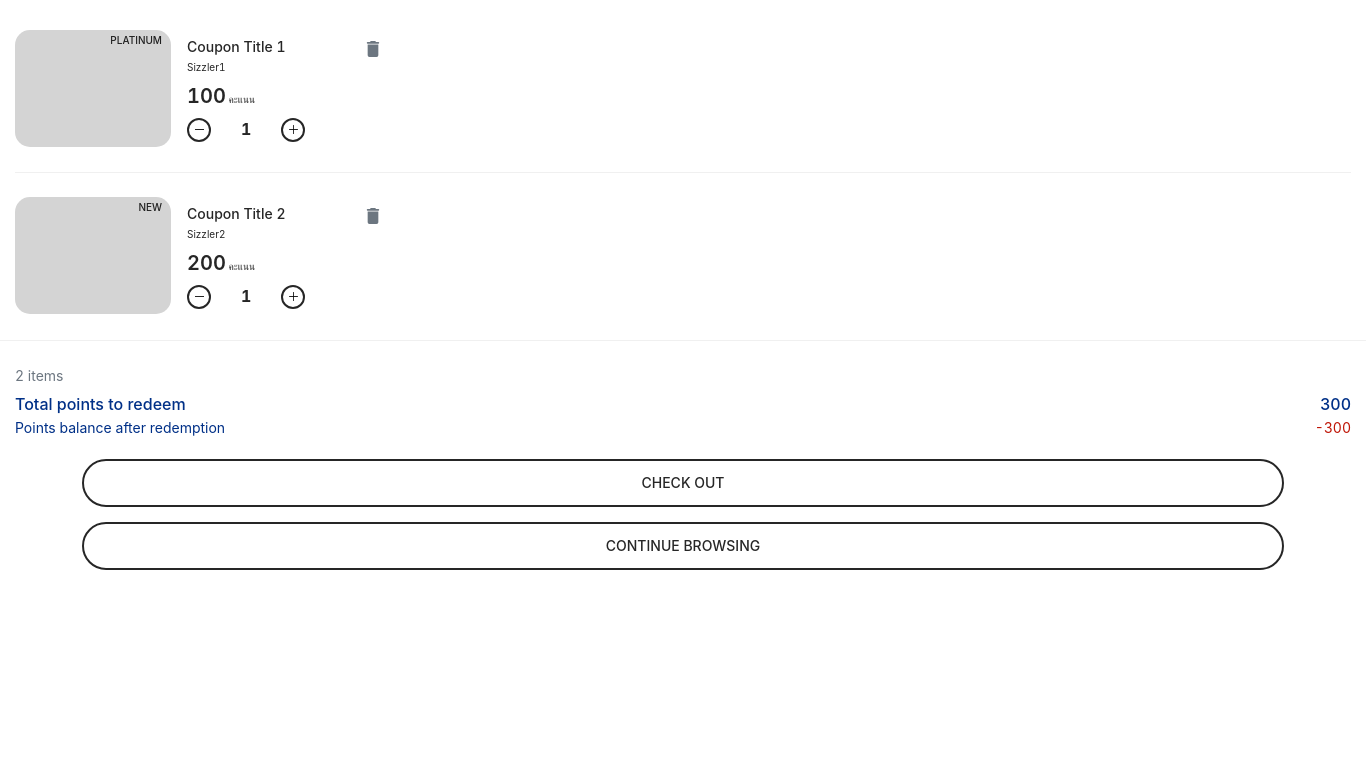
NonEmptyCartView › should render AcuvueCouponErrorModal when balanceAfterRedemption <= 0
Click the button "CHECK OUT": (683, 483) [82,459,1284,507]
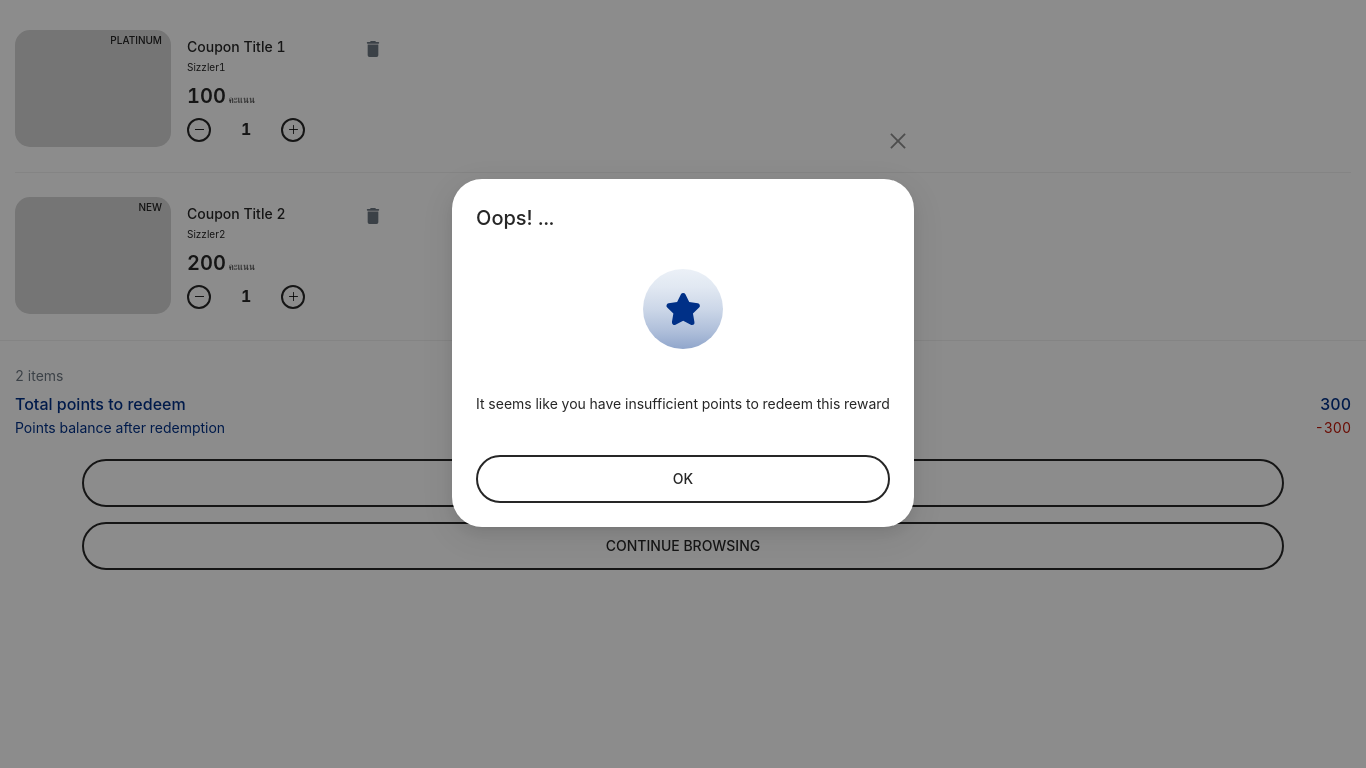
Now the dialog is shown, box [452,179,914,526]
Now the heading "Oops! ..." is shown, box [476,206,554,230]
Now the text "It seems like you have insufficient points to redeem this reward" is shown, box [476,394,890,412]
